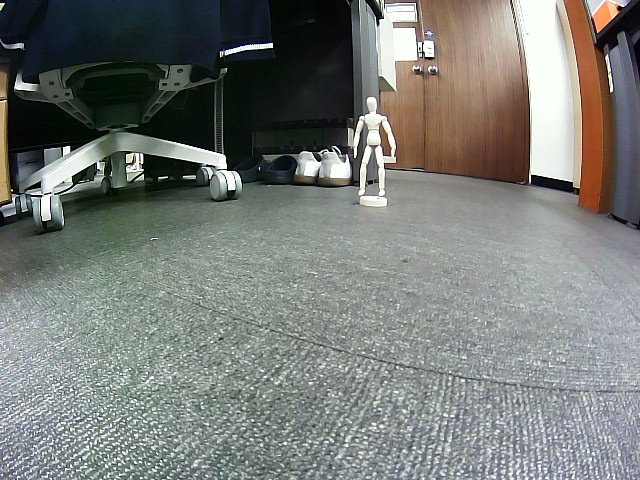person: (353, 95, 395, 196)
